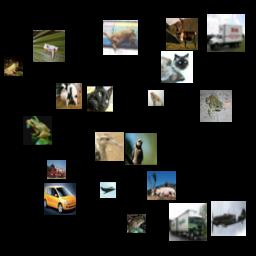airplane: (211, 201, 246, 236), (100, 182, 116, 198)
automobile: (44, 183, 76, 215)
bird: (125, 133, 157, 165), (95, 132, 124, 161), (148, 90, 164, 106)
cat: (103, 20, 138, 55), (161, 51, 193, 83), (87, 86, 113, 112)
deer: (166, 18, 198, 50), (147, 171, 176, 200)
dog: (56, 83, 82, 109)
frog: (200, 90, 232, 122), (33, 30, 65, 62), (23, 116, 52, 145), (4, 57, 23, 76), (127, 214, 146, 233)
truck: (169, 203, 207, 241), (207, 14, 245, 52), (47, 160, 66, 179)
